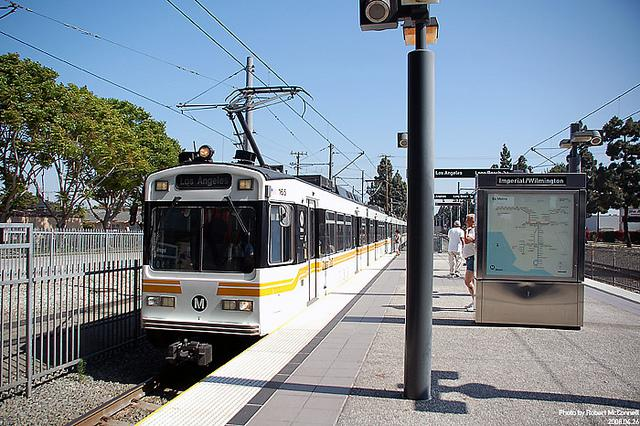Train: (139, 147, 409, 342)
